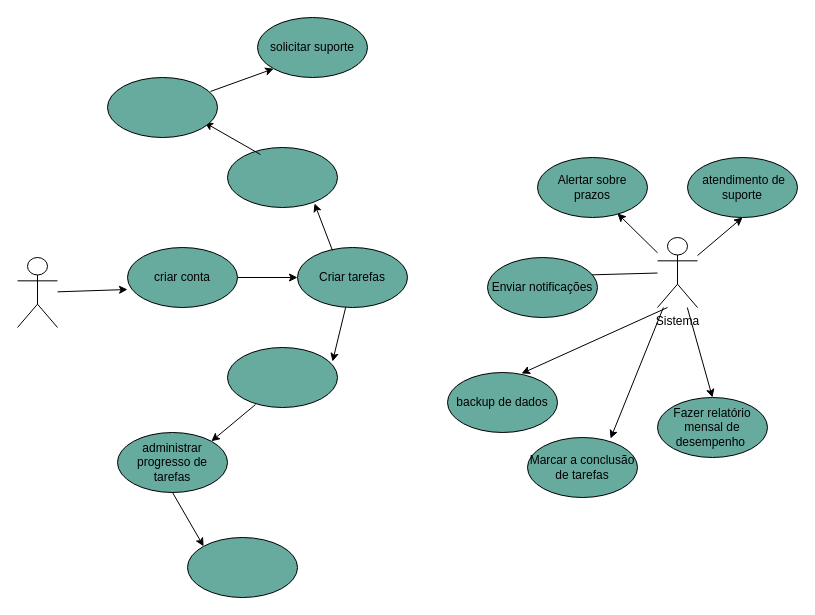
Some shapes in this 815 by 615 pixel diagram are drawn without their labels. Each missing label, with the centre of its shape:
"Colocar prazo" belongs at [242,567].
"copiar e colar texto" belongs at [162,107].
"Editar tarefas" belongs at [282,177].
"Excluir tarefas" belongs at [282,377].
"usuário" belongs at [37,292].
